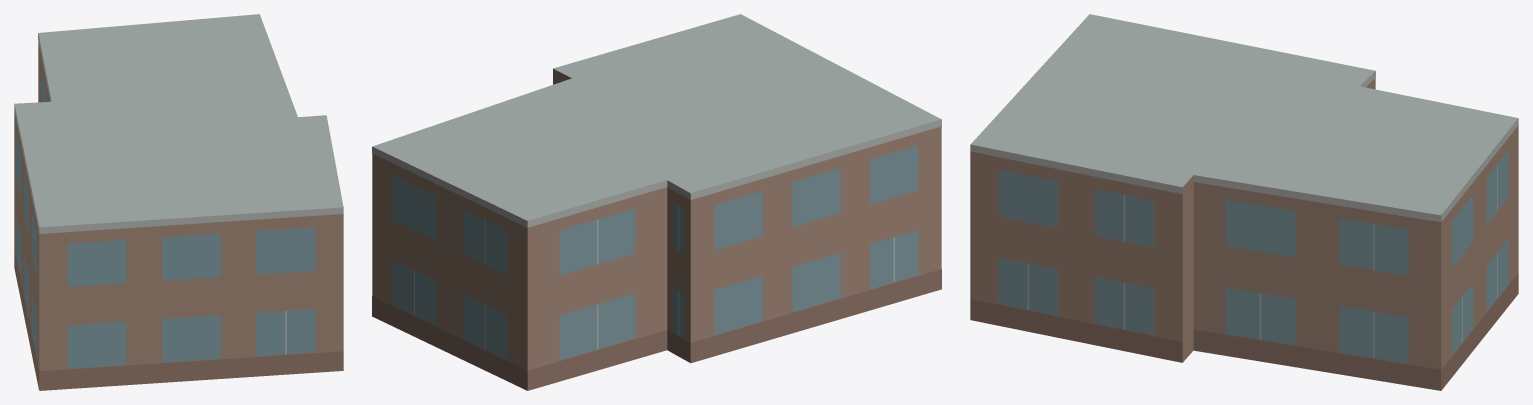
File: survey-upis-32942664.glb
The picture shows the model from 3 angles, left to right: view 1: azimuth 30°, elevation 25°; view 2: azimuth 150°, elevation 25°; view 3: azimuth 270°, elevation 25°; orthographic projection. The views are drawn at different scales.
Visible parts, largest first — view 1: survey-upis-32942664.tmp; view 2: survey-upis-32942664.tmp; view 3: survey-upis-32942664.tmp.
Part boxes in pixels (bbox=[...]): survey-upis-32942664.tmp: bbox=[14, 14, 343, 390]; survey-upis-32942664.tmp: bbox=[372, 14, 941, 390]; survey-upis-32942664.tmp: bbox=[970, 14, 1518, 390].
Bounding box in the file's own units: 15.02 × 6.1 × 17.28.
